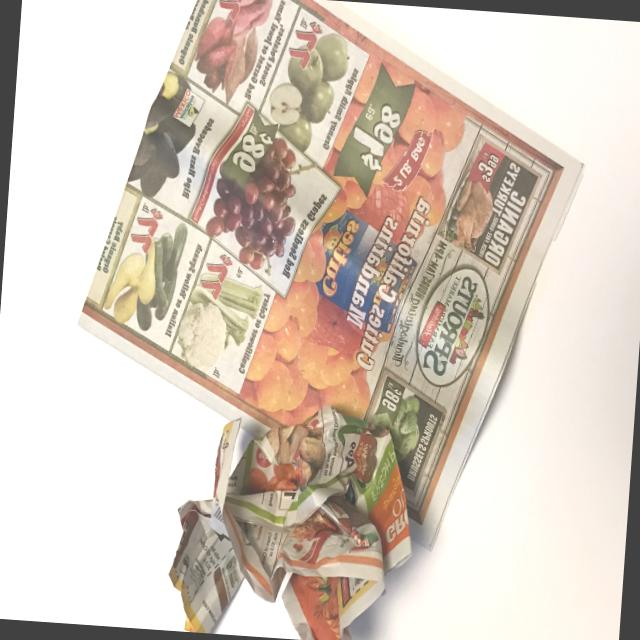Paper: (62, 0, 595, 529), (160, 390, 421, 640)
